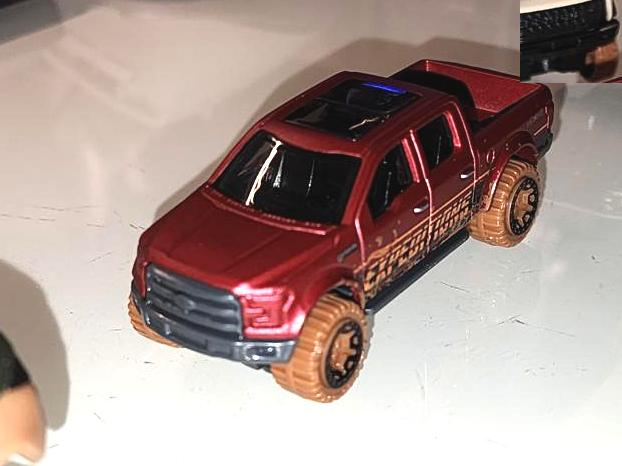toy-car: (128, 56, 555, 404), (520, 0, 622, 83)
